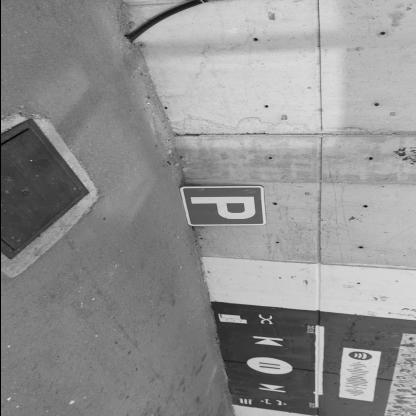Parking-Sign: (179, 186, 268, 228)
